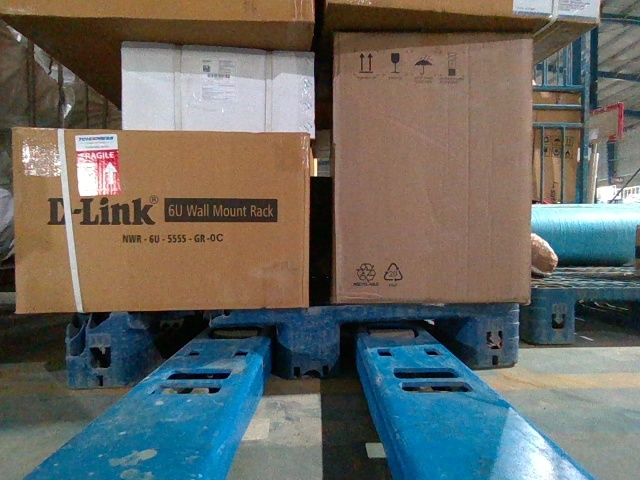block: (68, 312, 135, 389), (276, 303, 337, 380), (471, 299, 519, 368), (534, 286, 578, 343)
front: (69, 300, 519, 386)
hole pallet: (132, 321, 286, 385), (340, 313, 473, 380), (575, 298, 639, 340)
